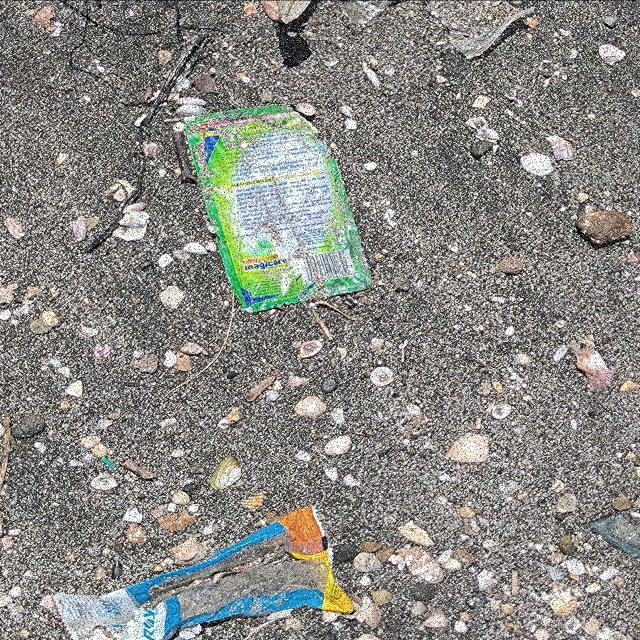plastic_waste: (53, 502, 355, 640), (183, 104, 377, 314)
